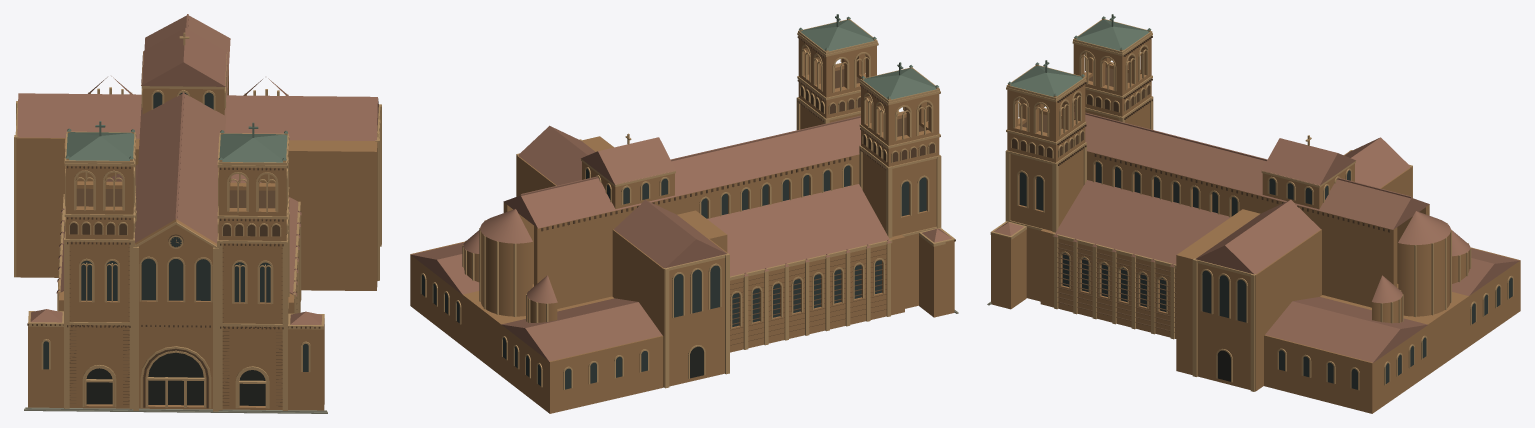
Rendered from catedral-metropolitana-de-medellin-near.glb.
3 views of the same model, side by side, from view 1: azimuth 30°, elevation 25°; view 2: azimuth 150°, elevation 25°; view 3: azimuth 270°, elevation 25° (orthographic). The views are drawn at different scales.
Visible parts, largest first — view 1: catedral-metropolitana-de-medellin-0-brick, catedral-metropolitana-de-medellin-0-roof, catedral-metropolitana-de-medellin-0-trim, catedral-metropolitana-de-medellin-0-recess, catedral-metropolitana-de-medellin-0-glass, catedral-metropolitana-de-medellin-0-door, catedral-metropolitana-de-medellin-0-copper, catedral-metropolitana-de-medellin-0-stone; view 2: catedral-metropolitana-de-medellin-0-brick, catedral-metropolitana-de-medellin-0-roof, catedral-metropolitana-de-medellin-0-trim, catedral-metropolitana-de-medellin-0-glass, catedral-metropolitana-de-medellin-0-recess, catedral-metropolitana-de-medellin-0-copper; view 3: catedral-metropolitana-de-medellin-0-brick, catedral-metropolitana-de-medellin-0-roof, catedral-metropolitana-de-medellin-0-trim, catedral-metropolitana-de-medellin-0-glass, catedral-metropolitana-de-medellin-0-recess, catedral-metropolitana-de-medellin-0-copper.
Boxes of the visible parts, x1,y1,x2,y2 form: catedral-metropolitana-de-medellin-0-brick: [16, 70, 377, 410]; catedral-metropolitana-de-medellin-0-roof: [17, 14, 378, 324]; catedral-metropolitana-de-medellin-0-trim: [14, 32, 381, 411]; catedral-metropolitana-de-medellin-0-recess: [27, 165, 320, 408]; catedral-metropolitana-de-medellin-0-glass: [43, 92, 308, 371]; catedral-metropolitana-de-medellin-0-door: [86, 352, 265, 405]; catedral-metropolitana-de-medellin-0-copper: [65, 121, 287, 162]; catedral-metropolitana-de-medellin-0-stone: [24, 407, 327, 413]; catedral-metropolitana-de-medellin-0-brick: [410, 38, 954, 413]; catedral-metropolitana-de-medellin-0-roof: [411, 115, 951, 362]; catedral-metropolitana-de-medellin-0-trim: [420, 19, 955, 390]; catedral-metropolitana-de-medellin-0-glass: [421, 165, 926, 389]; catedral-metropolitana-de-medellin-0-recess: [541, 36, 955, 345]; catedral-metropolitana-de-medellin-0-copper: [799, 14, 938, 99]; catedral-metropolitana-de-medellin-0-brick: [991, 38, 1520, 413]; catedral-metropolitana-de-medellin-0-roof: [994, 110, 1520, 363]; catedral-metropolitana-de-medellin-0-trim: [990, 18, 1513, 391]; catedral-metropolitana-de-medellin-0-glass: [1019, 162, 1512, 389]; catedral-metropolitana-de-medellin-0-recess: [1012, 36, 1389, 332]; catedral-metropolitana-de-medellin-0-copper: [1007, 14, 1151, 96].
Bounding box in the file's own units: 100 × 53.2 × 113.
